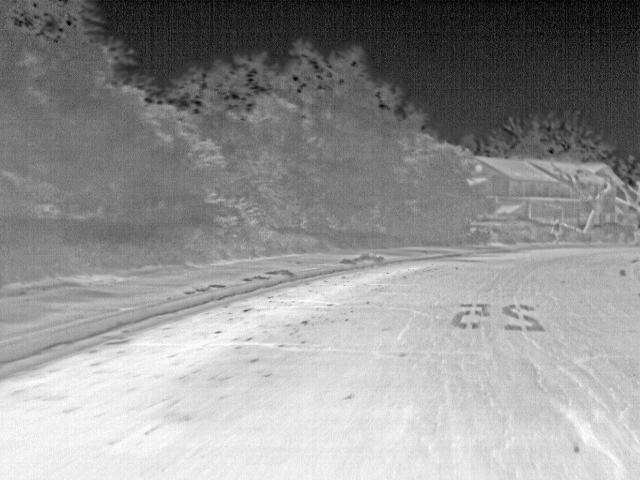person: (551, 218, 564, 246)
